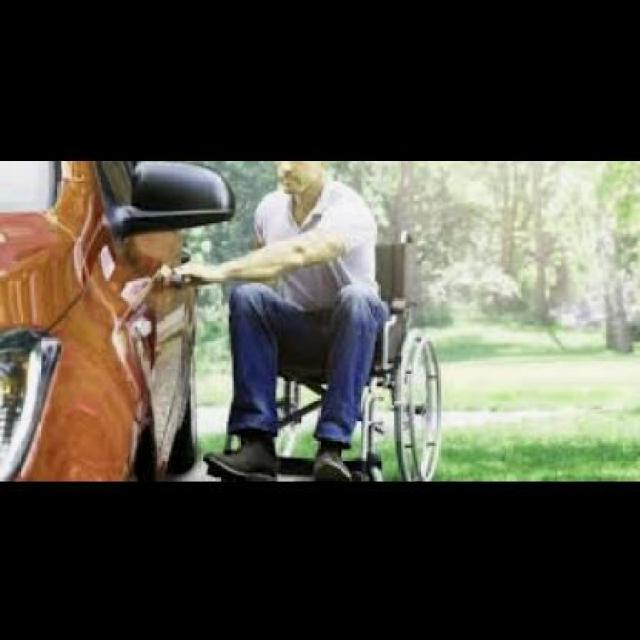wheelchairs: (228, 246, 442, 483)
